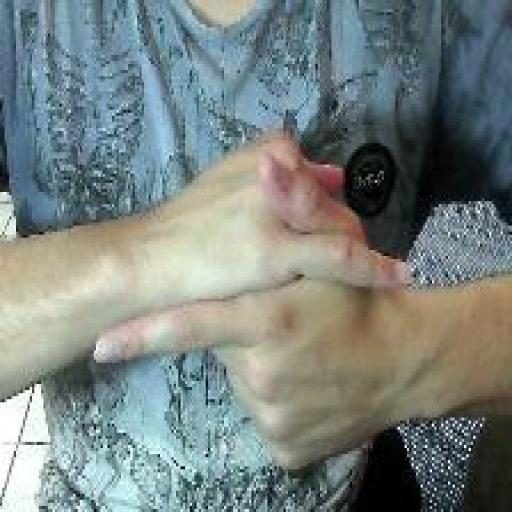U -hare-: (90, 119, 417, 478)
